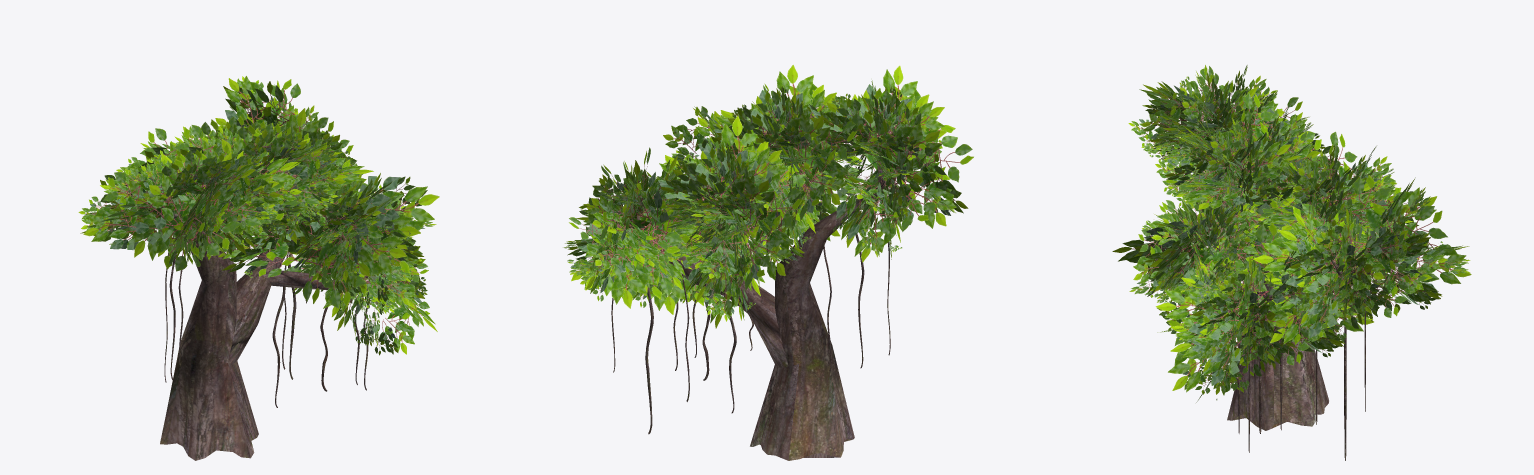
Rendered from Beringin.fbx.
3 views of the same model, side by side, from view 1: azimuth 30°, elevation 25°; view 2: azimuth 150°, elevation 25°; view 3: azimuth 270°, elevation 25° (orthographic). The views are drawn at different scales.
Visible parts, largest first — view 1: Lovepik_com-380354223-banyan-tree-plant-branches-herb-pista.; view 2: Lovepik_com-380354223-banyan-tree-plant-branches-herb-pista.; view 3: Lovepik_com-380354223-banyan-tree-plant-branches-herb-pista..
Part boxes in pixels (bbox=[...]): Lovepik_com-380354223-banyan-tree-plant-branches-herb-pista.: bbox=[78, 76, 439, 460]; Lovepik_com-380354223-banyan-tree-plant-branches-herb-pista.: bbox=[563, 64, 973, 460]; Lovepik_com-380354223-banyan-tree-plant-branches-herb-pista.: bbox=[1112, 65, 1471, 460].
Size of the model in its own units: 498 by 435 by 487.
